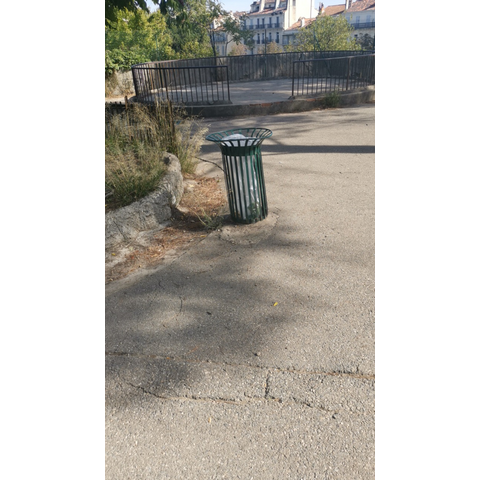poubelle: (201, 126, 282, 227)
